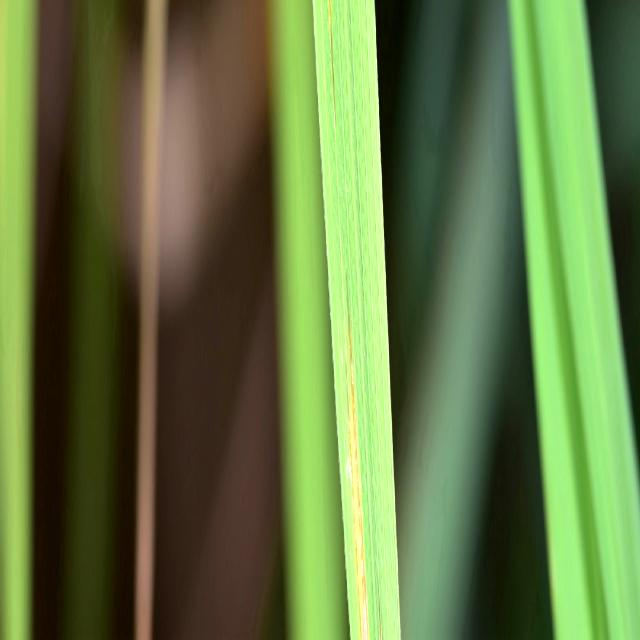BLS: (346, 279, 369, 638), (345, 366, 364, 638), (328, 0, 335, 128)
